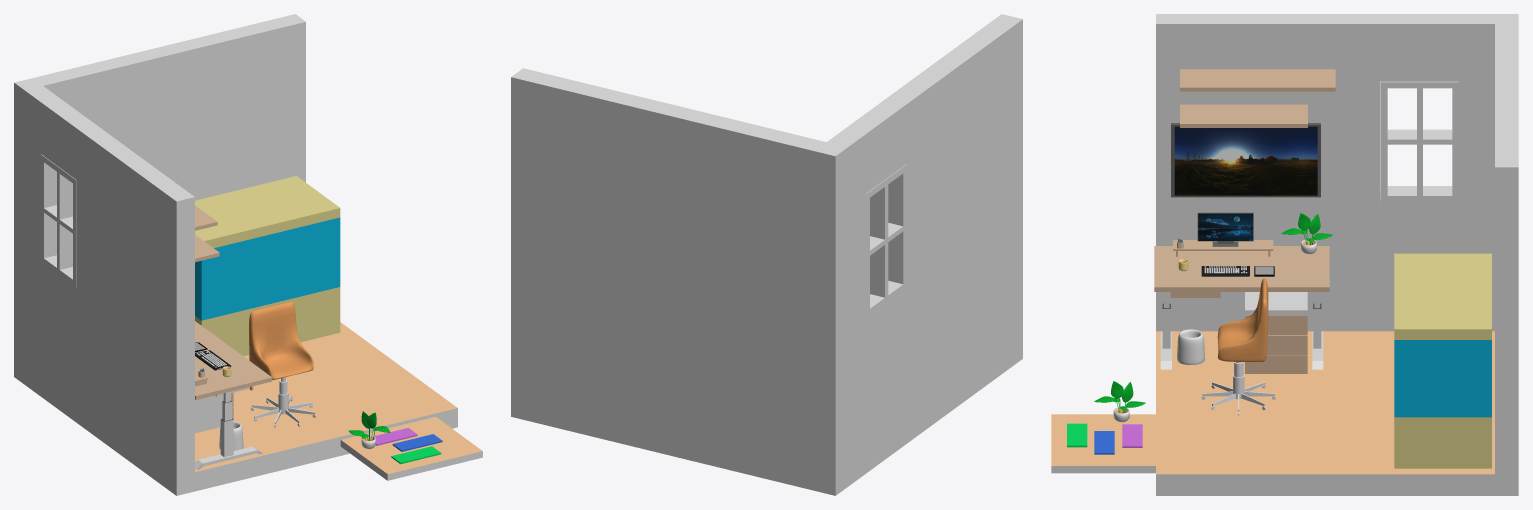
Rendered from room25.glb.
3 views of the same model, side by side, from view 1: azimuth 30°, elevation 25°; view 2: azimuth 150°, elevation 25°; view 3: azimuth 270°, elevation 25° (orthographic). The views are drawn at different scales.
Visible parts, largest first — view 1: Cube, AquaGlass, Cube.021, Cube.026, Cube.016, chair, TableTop, TableLeg, Cylinder.001, TableTop.001, Circle.001; view 2: Cube, Cube.016; view 3: Cube, Cube.021, tv, AquaGlass, TableTop, Cube.016, Cube.026, TableTop.004, TableTop.003, TableDrawer.001, chair, TableLeg (+8 smaller).
Boxes of the visible parts, x1,y1,x2,y2 form: Cube: [14, 14, 457, 495]; AquaGlass: [195, 217, 340, 320]; Cube.021: [195, 176, 340, 356]; Cube.026: [340, 416, 482, 480]; Cube.016: [40, 154, 76, 287]; chair: [249, 302, 313, 379]; TableTop: [195, 321, 272, 399]; TableLeg: [195, 391, 262, 469]; Cylinder.001: [250, 377, 315, 427]; TableTop.001: [195, 393, 230, 433]; Circle.001: [348, 411, 390, 449]; Cube: [511, 14, 1022, 495]; Cube.016: [866, 164, 907, 317]; Cube: [1156, 14, 1518, 495]; Cube.021: [1394, 253, 1491, 468]; tv: [1171, 123, 1320, 197]; AquaGlass: [1394, 340, 1491, 417]; TableTop: [1154, 246, 1329, 291]; Cube.016: [1380, 81, 1459, 202]; Cube.026: [1051, 414, 1155, 473]; TableTop.004: [1180, 69, 1335, 91]; TableTop.003: [1180, 104, 1307, 127]; TableDrawer.001: [1245, 315, 1307, 373]; chair: [1217, 278, 1268, 361]; TableLeg: [1160, 292, 1323, 369].
Size of the model in its own units: 16.98 by 16.98 by 21.89.
Materials: 25 (2 with a texture image).
